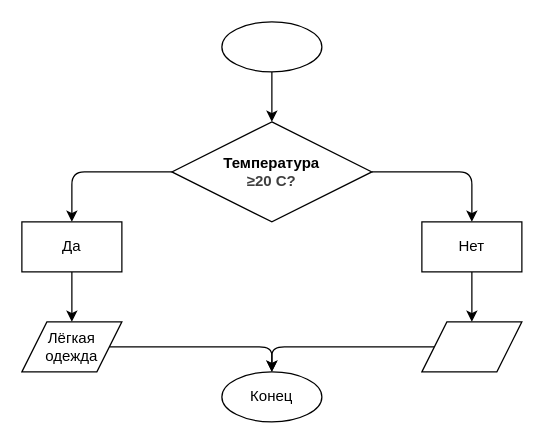
This 544x444 diagram has some shape labels left out. Here are the shapes that lost their labels. From the top down, the centre of each, then its label:
At (x=271, y=46): "Начало".
At (x=471, y=346): "Тёплая одежда".
